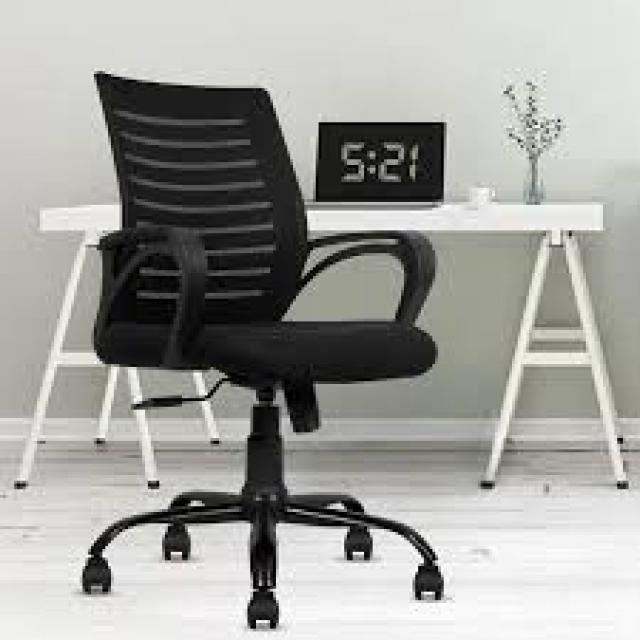chair: (36, 48, 485, 640)
